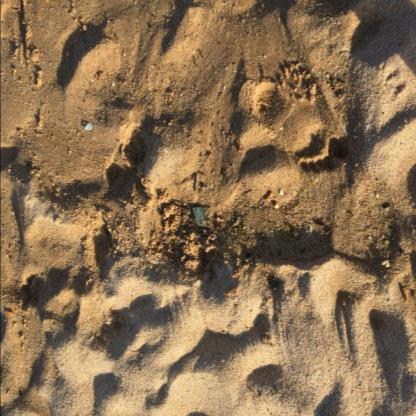Cigarette: (401, 286, 409, 302), (263, 190, 273, 202), (4, 309, 13, 317)
Other plastic: (192, 207, 206, 229)
